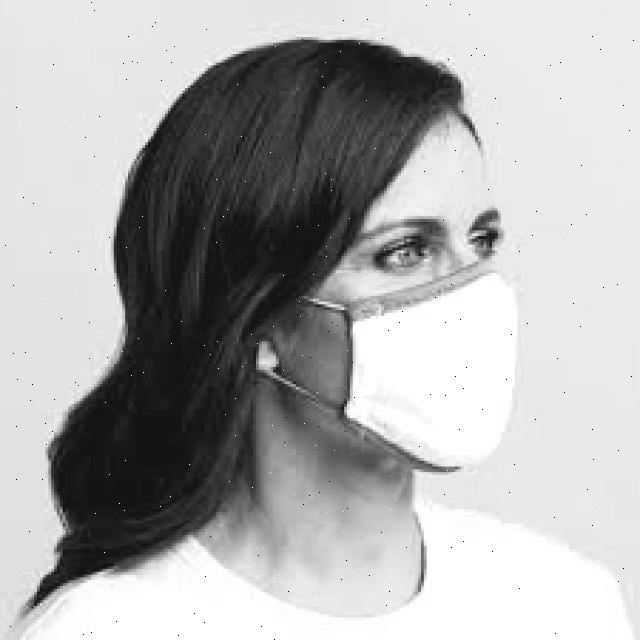fake: (327, 256, 532, 504)
real: (278, 109, 503, 479)
